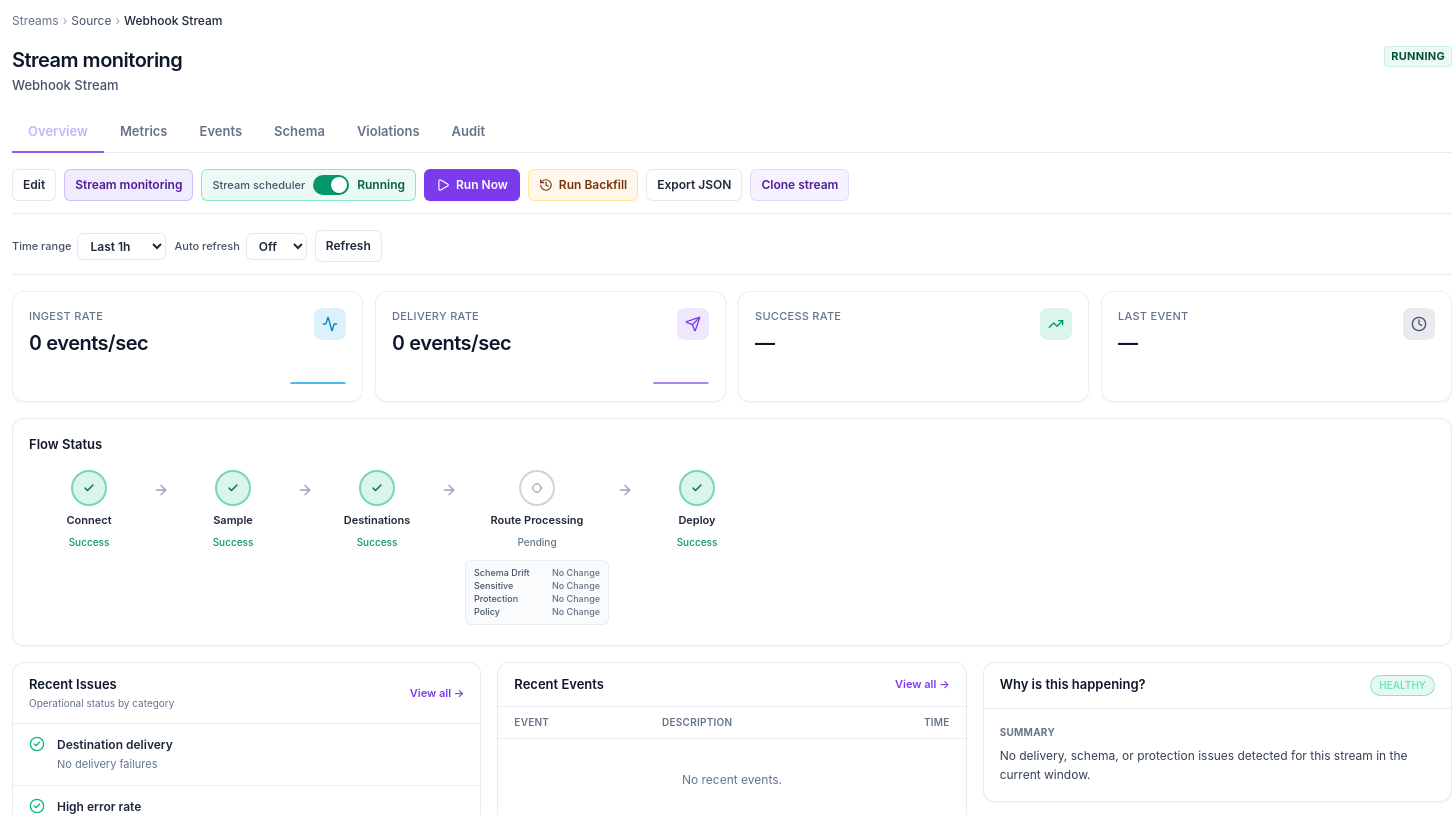
StreamRuntimeDetailPage webhook receiver › shows push ingest panel without checkpoint wording
Click the tab with test id "stream-detail-tab-audit": coordinates (468, 132) [436,112,501,153]
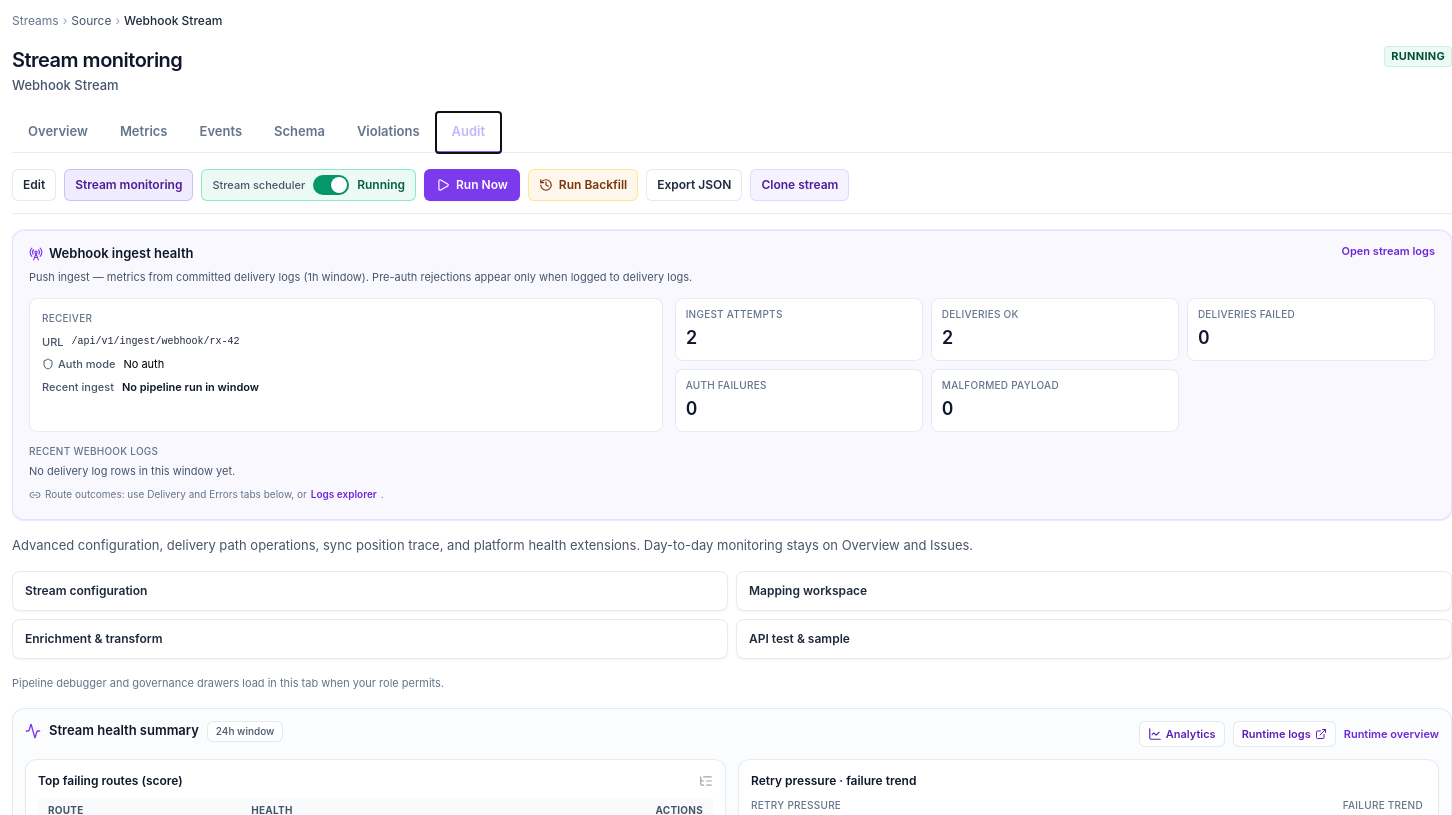
expect the element with test id "webhook-receiver-runtime-panel" is shown: met, box [12,230,1451,520]
expect the element with test id "webhook-metric-ingest-attempts" shows "2": met, box [686,326,697,348]
